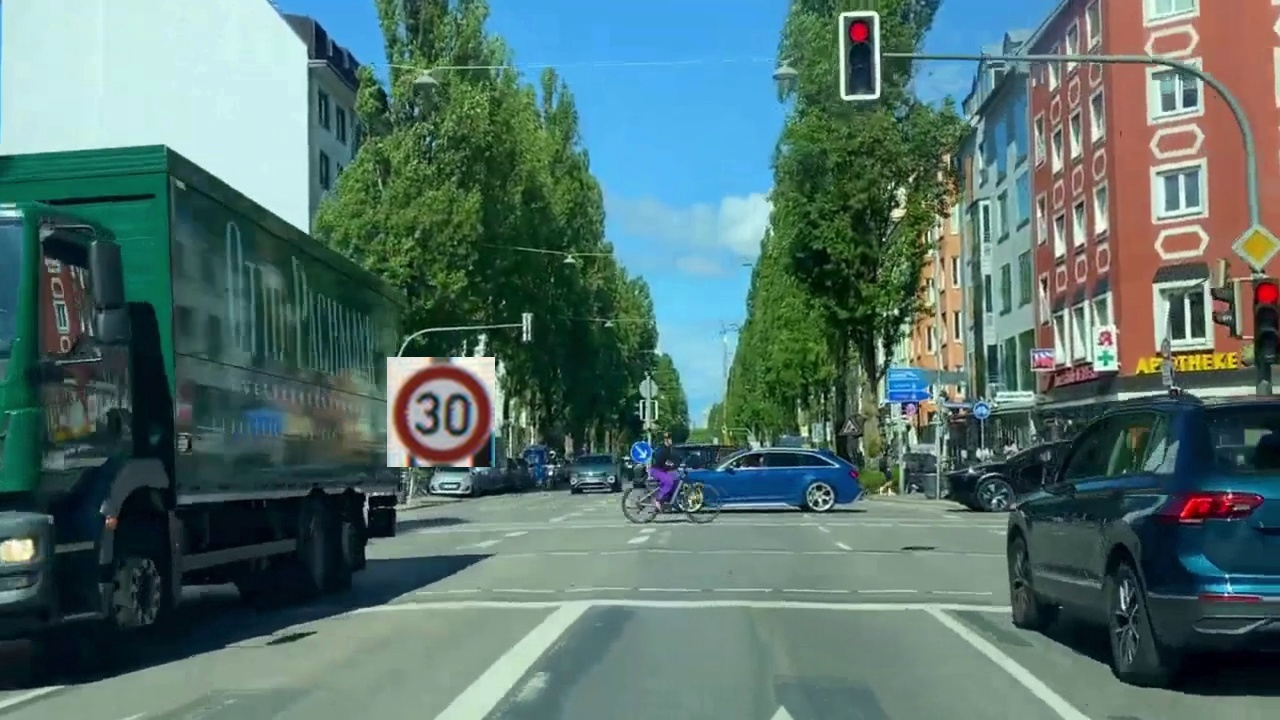Speed 30: (387, 357, 495, 467)
